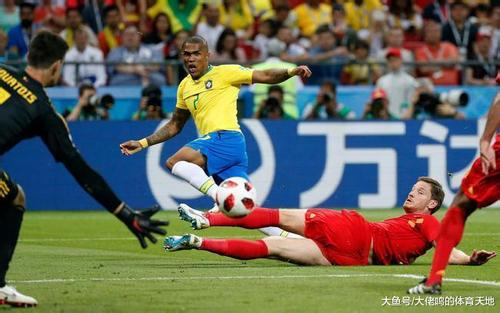10+: (1, 2, 500, 309)
down: (163, 173, 490, 270)
